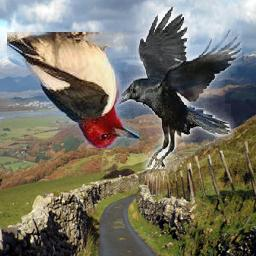Crow: (118, 7, 243, 169)
Woodpecker: (7, 32, 139, 148)
